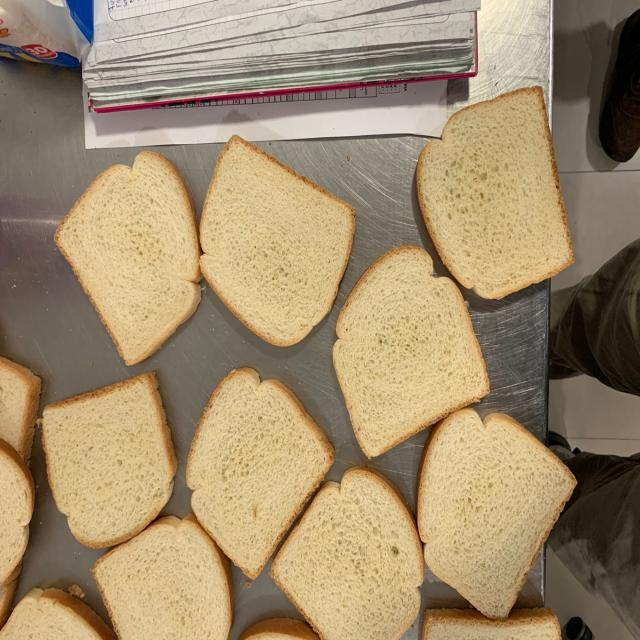pan: (416, 406, 576, 622), (416, 85, 575, 299), (332, 246, 489, 460), (200, 136, 355, 346), (186, 367, 335, 582), (54, 152, 203, 365), (269, 467, 424, 640), (42, 372, 178, 548)
